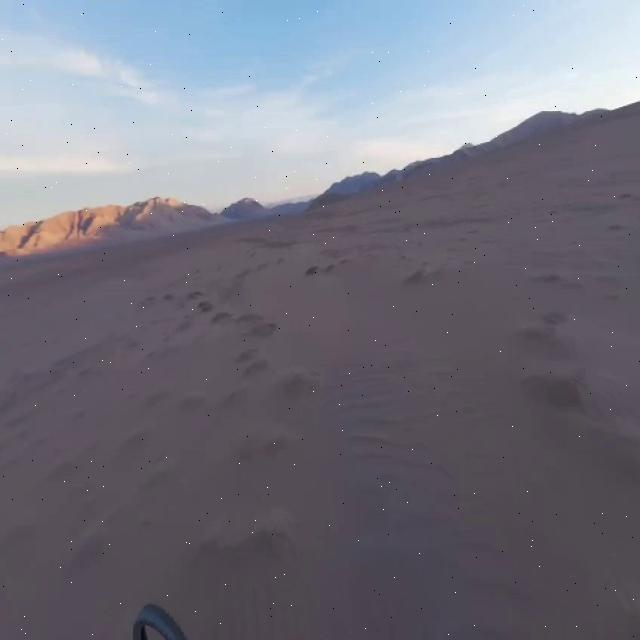Tire: (133, 604, 186, 639)
